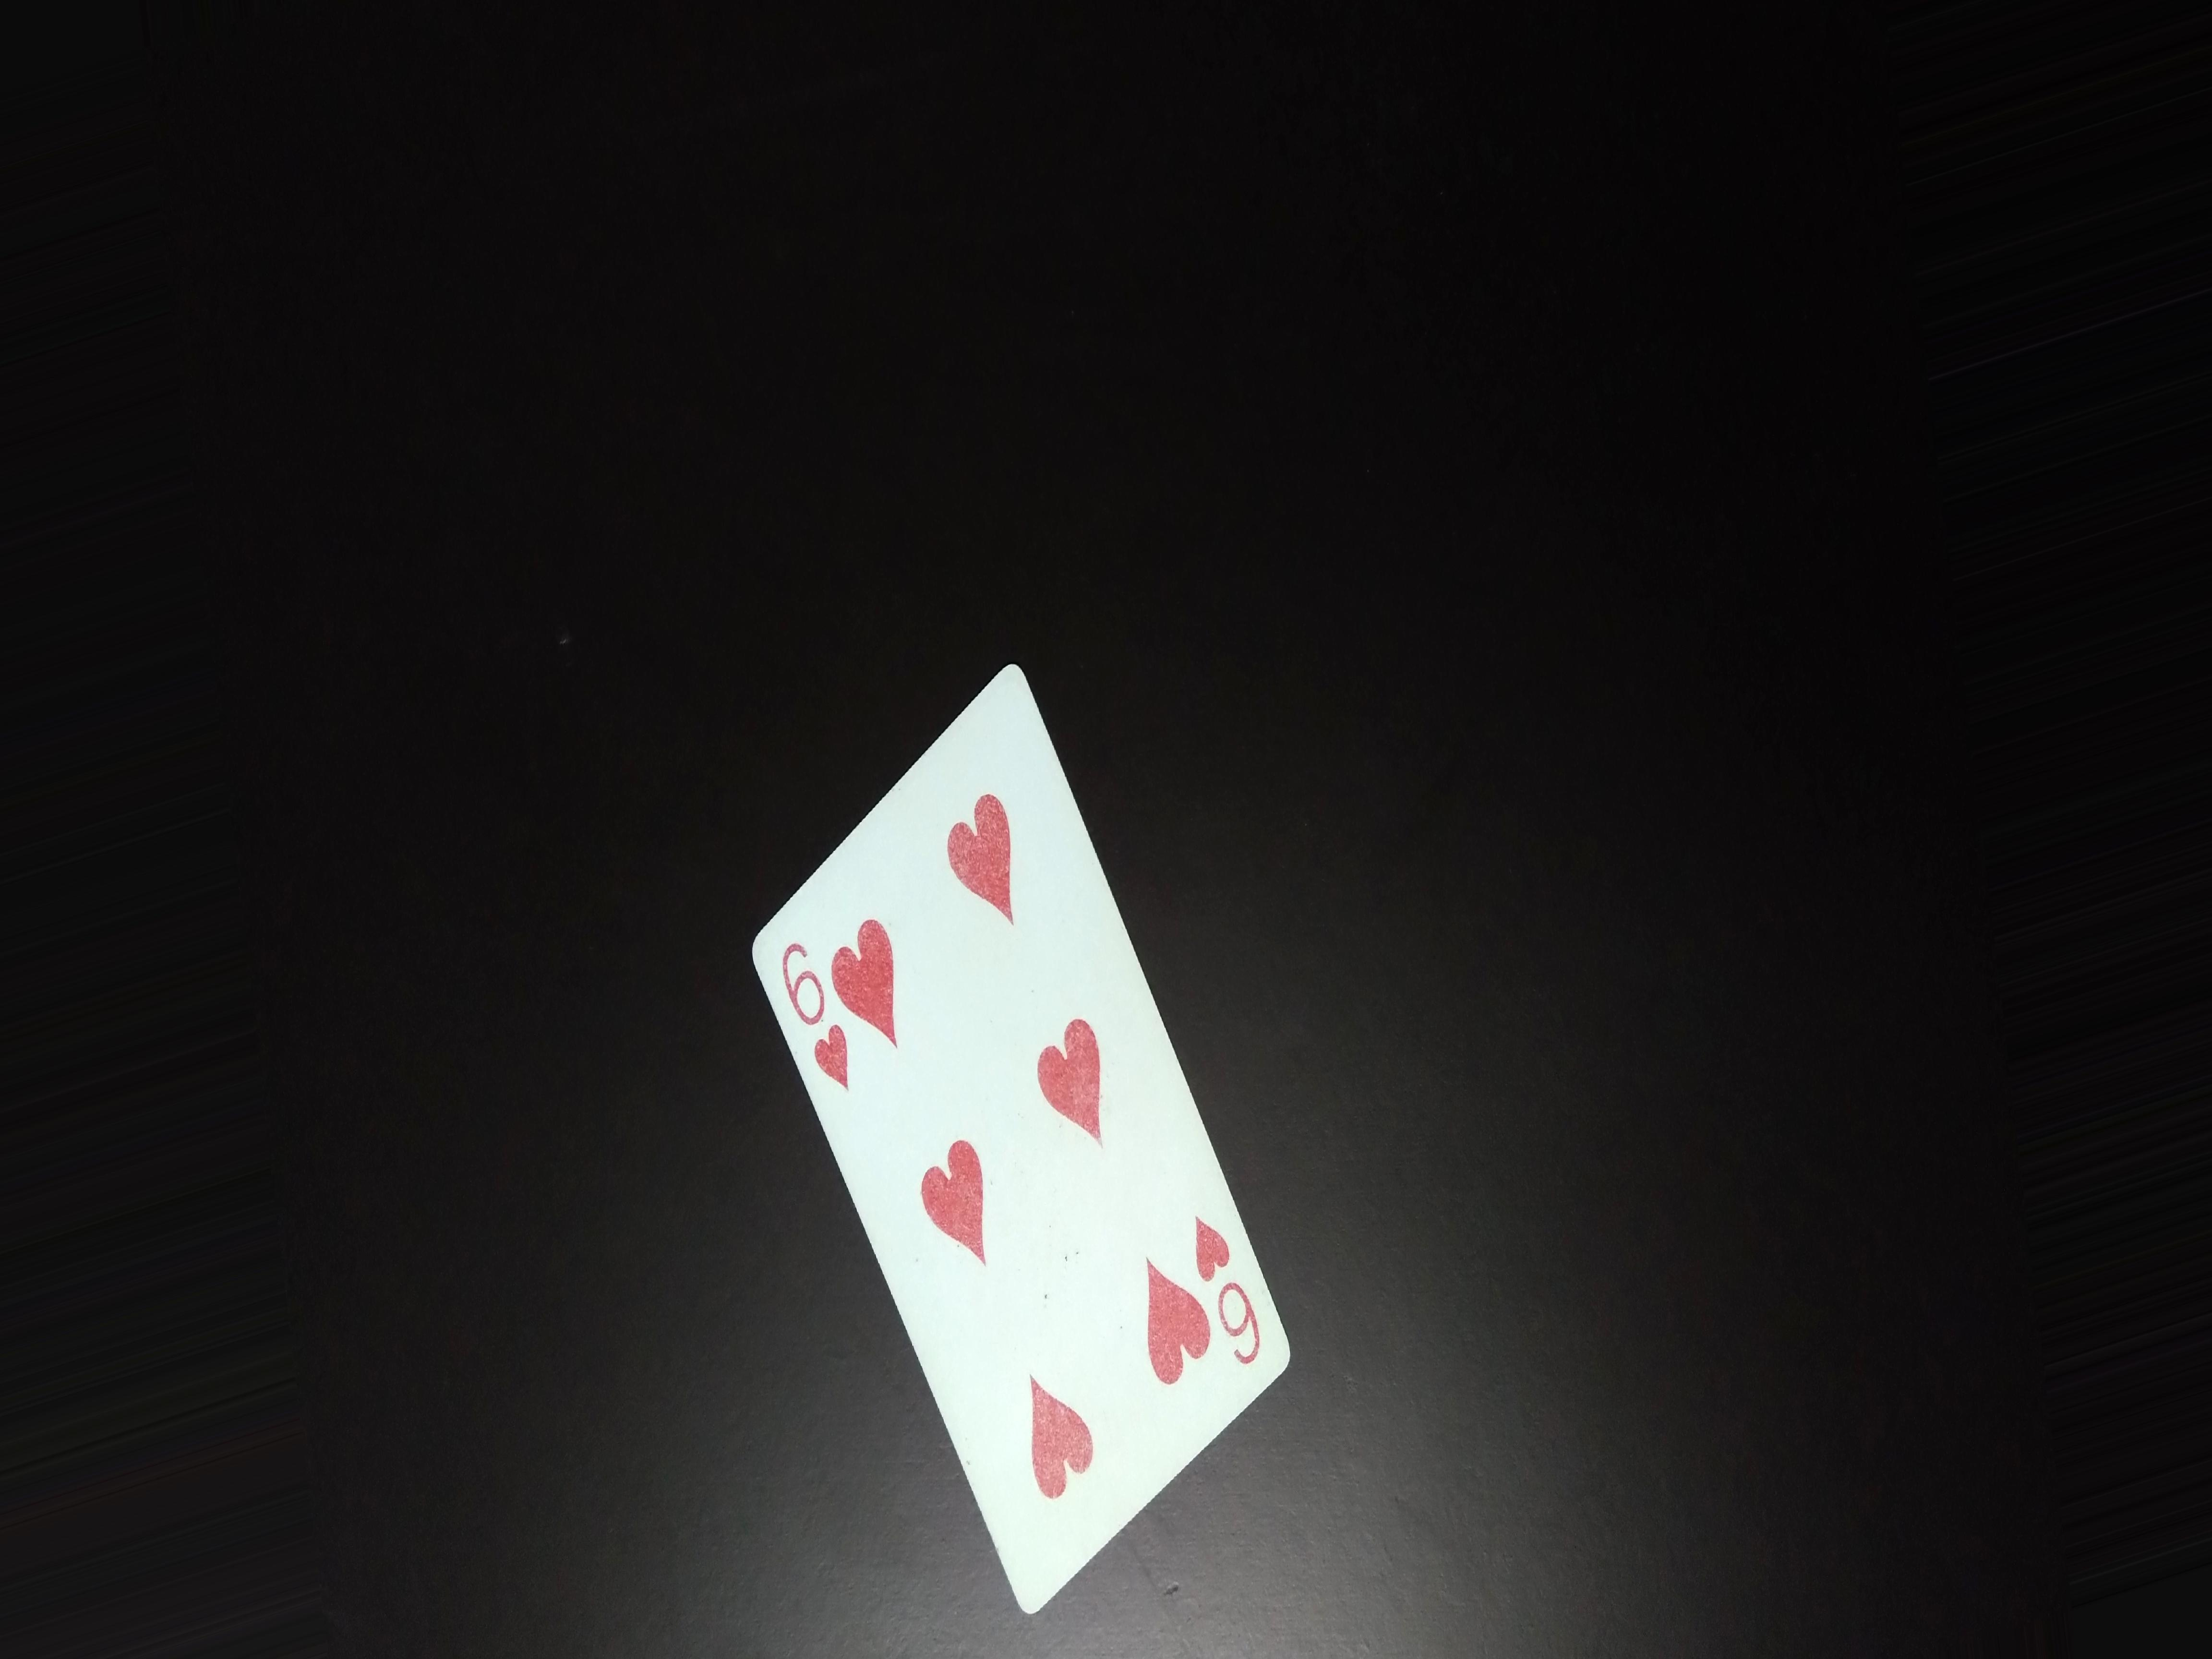6H: (777, 932, 866, 1093)
